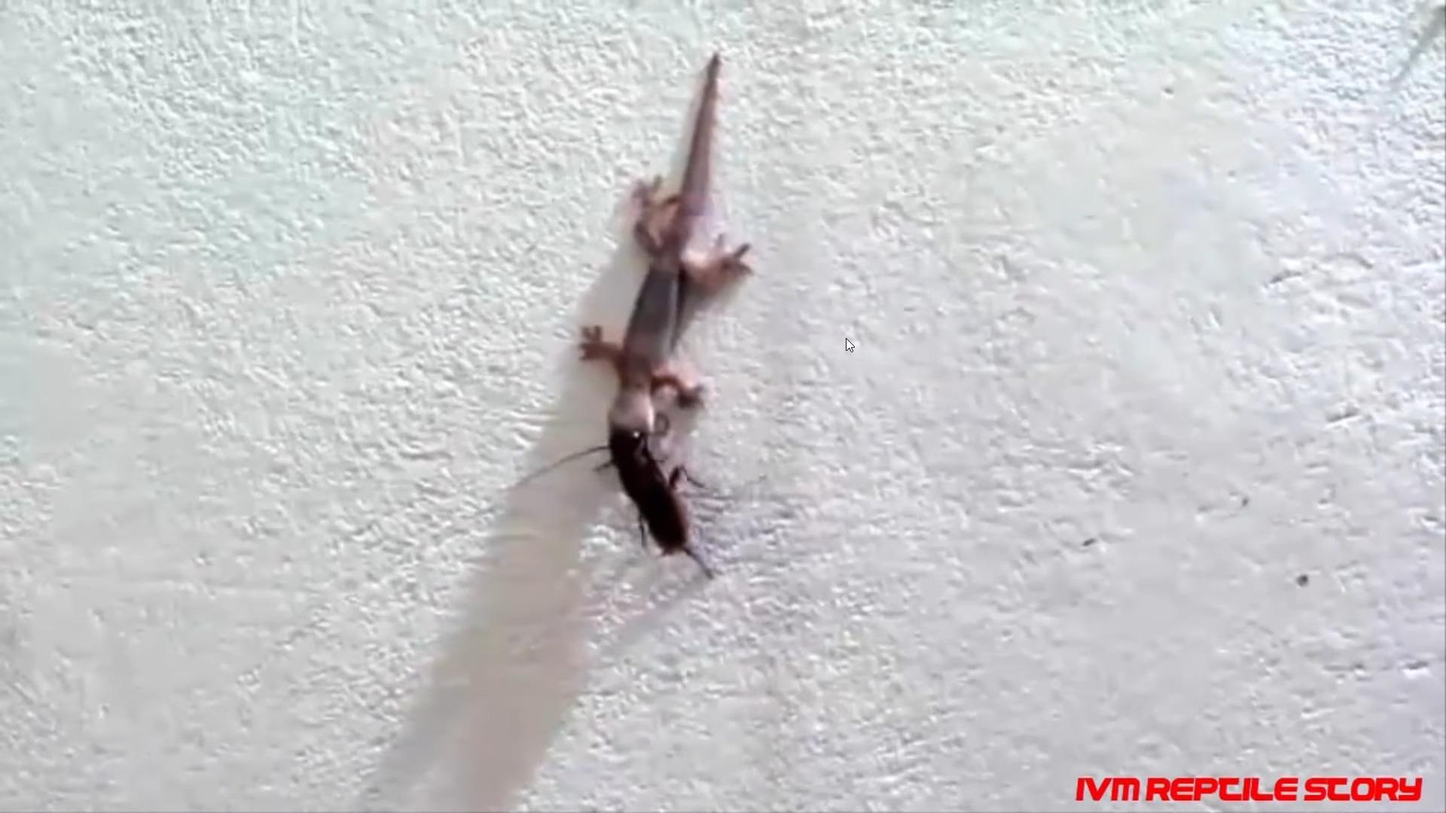cockroach: (601, 435, 705, 569)
lizard: (561, 66, 767, 435)
